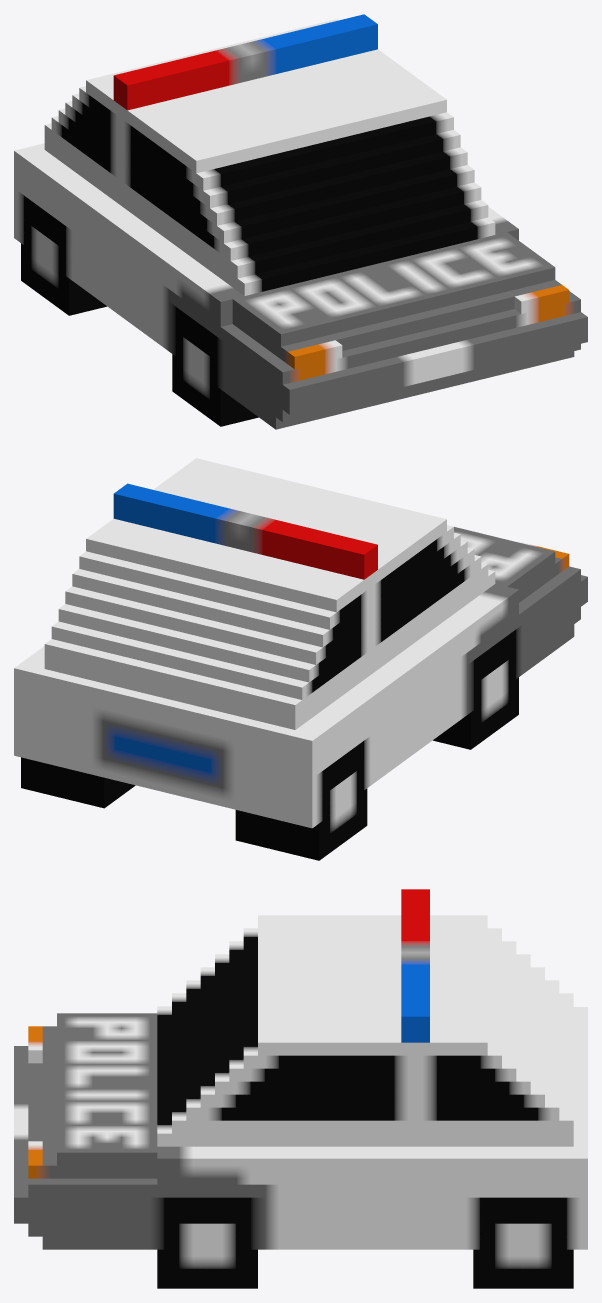
The model's file is Car_10.fbx.
3 renders of one model, top to bottom at view 1: azimuth 30°, elevation 25°; view 2: azimuth 150°, elevation 25°; view 3: azimuth 270°, elevation 25°, orthographic. The views are drawn at different scales.
Visible parts, largest first — view 1: Car_10; view 2: Car_10; view 3: Car_10.
Boxes of the visible parts, left/top/right/bottom form: Car_10: left=14, top=14, right=587, bottom=429; Car_10: left=14, top=458, right=587, bottom=860; Car_10: left=14, top=889, right=587, bottom=1288.
Size of the model in its own units: 25 by 20 by 40.
Materials: 1 (1 with a texture image).
